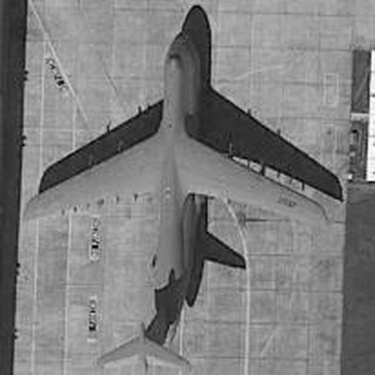airplane: (15, 51, 343, 370)
